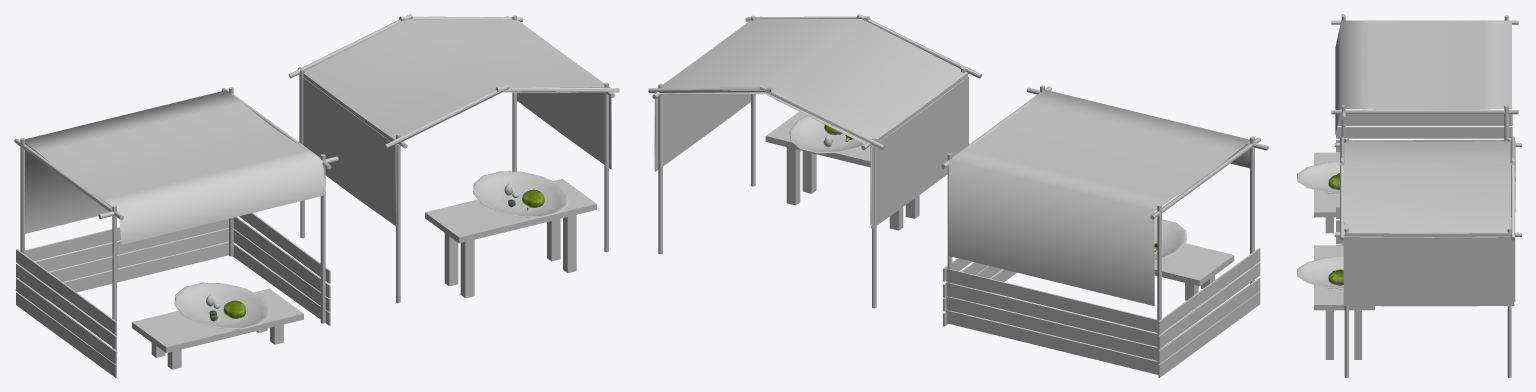
Rendered from bazar.fbx.
3 renders of one model, left to right at view 1: azimuth 30°, elevation 25°; view 2: azimuth 150°, elevation 25°; view 3: azimuth 270°, elevation 25°, orthographic. The views are drawn at different scales.
Parts seen in each view (by area): view 1: bazar1; view 2: bazar1; view 3: bazar1.
Boxes of the visible parts, x1,y1,x2,y2 form: bazar1: (14,14,619,377); bazar1: (648,14,1268,377); bazar1: (1297,14,1521,377).
Bounding box in the file's own units: 11.17 × 4.03 × 4.74.
